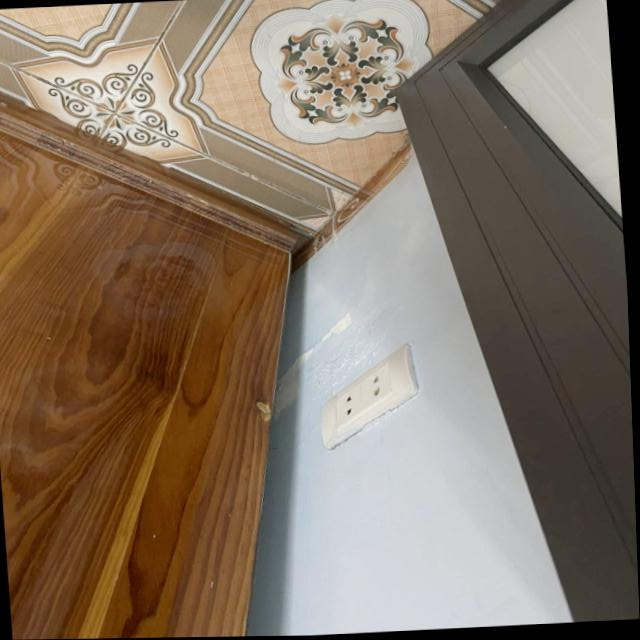outlet: (314, 344, 423, 452)
